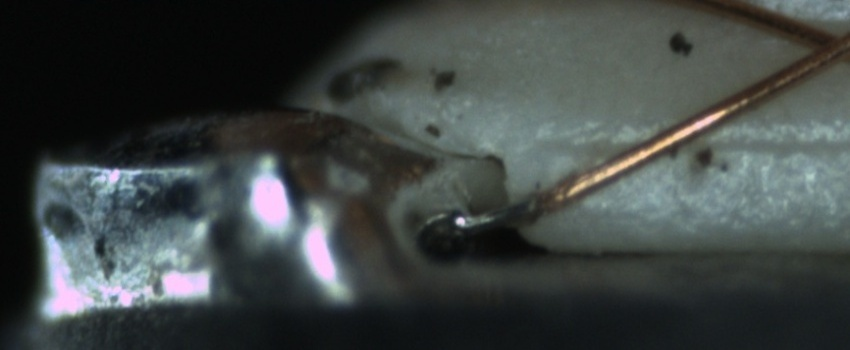CL: (795, 16, 849, 73)
DL: (549, 111, 850, 174)
TS: (455, 199, 539, 233)
